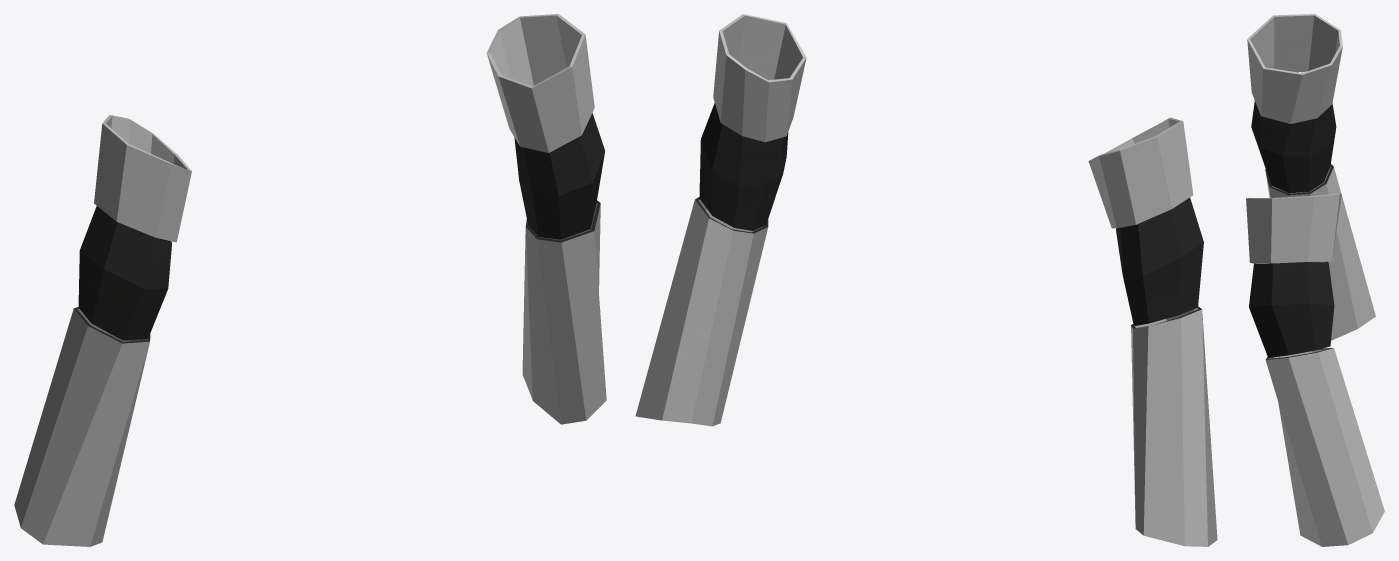
File: Armor_Vambrace.fbx
The picture shows the model from 3 angles, left to right: view 1: azimuth 30°, elevation 25°; view 2: azimuth 150°, elevation 25°; view 3: azimuth 270°, elevation 25°; orthographic projection. The views are drawn at different scales.
Visible parts, largest first — view 1: Armor_Vambrace; view 2: Armor_Vambrace; view 3: Armor_Vambrace.
Boxes of the visible parts, x1,y1,x2,y2 form: Armor_Vambrace: (14,14,606,546); Armor_Vambrace: (635,14,1217,546); Armor_Vambrace: (1246,14,1384,546).
Size of the model in its own units: 55.36 by 37.32 by 14.
